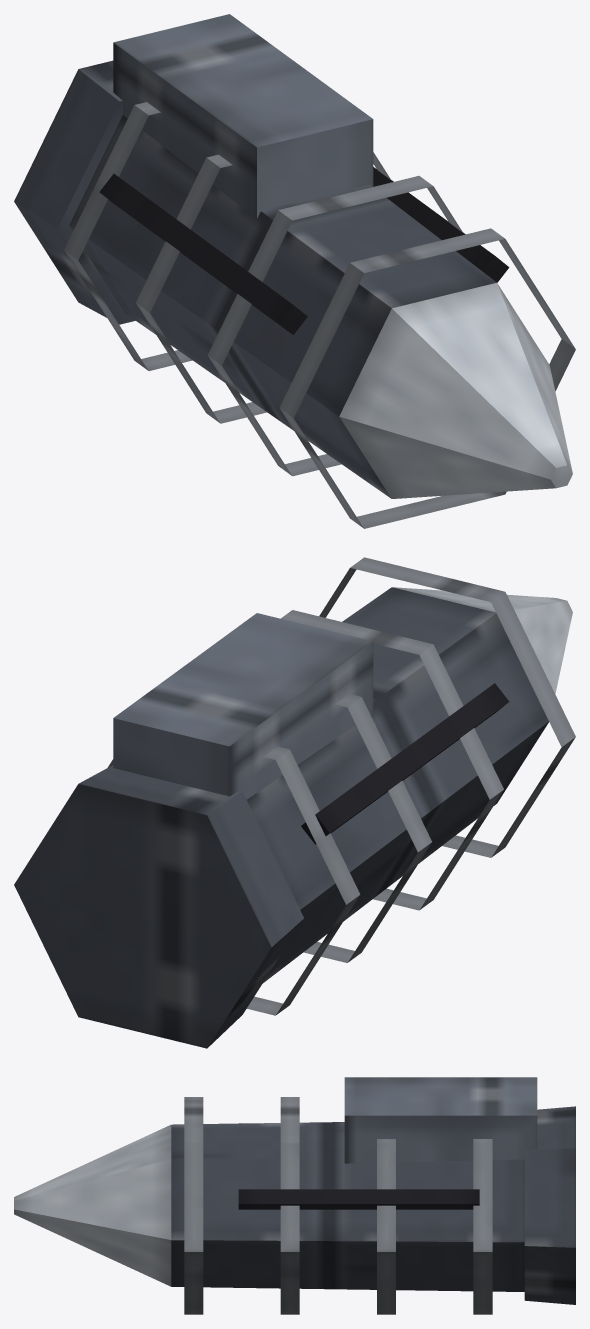
Rendered from ship_rotary_drill.obj.
3 renders of one model, top to bottom at view 1: azimuth 30°, elevation 25°; view 2: azimuth 150°, elevation 25°; view 3: azimuth 270°, elevation 25°, orthographic. The views are drawn at different scales.
Visible parts, largest first — view 1: barrel, bit, motor, flights, collar, hoses; view 2: collar, barrel, motor, flights, hoses, bit; view 3: barrel, motor, flights, bit, collar, hoses.
Boxes of the visible parts, bbox=[...] form: barrel: bbox=[69, 115, 496, 498]; bit: bbox=[339, 282, 572, 498]; motor: bbox=[113, 14, 373, 218]; flights: bbox=[64, 102, 575, 528]; collar: bbox=[14, 60, 135, 324]; hoses: bbox=[99, 167, 509, 334]; collar: bbox=[14, 765, 303, 1048]; barrel: bbox=[247, 587, 548, 983]; motor: bbox=[113, 613, 373, 799]; flights: bbox=[107, 557, 575, 1015]; hoses: bbox=[301, 683, 509, 844]; bit: bbox=[393, 587, 572, 693]; barrel: bbox=[171, 1122, 524, 1291]; motor: bbox=[344, 1077, 537, 1163]; flights: bbox=[184, 1097, 492, 1314]; bit: bbox=[14, 1125, 171, 1286]; collar: bbox=[524, 1106, 575, 1304]; hoses: bbox=[238, 1123, 479, 1209].
Bounding box in the file's own units: 0.6804 × 0.6699 × 1.75.
5 materials, 5 textured.
